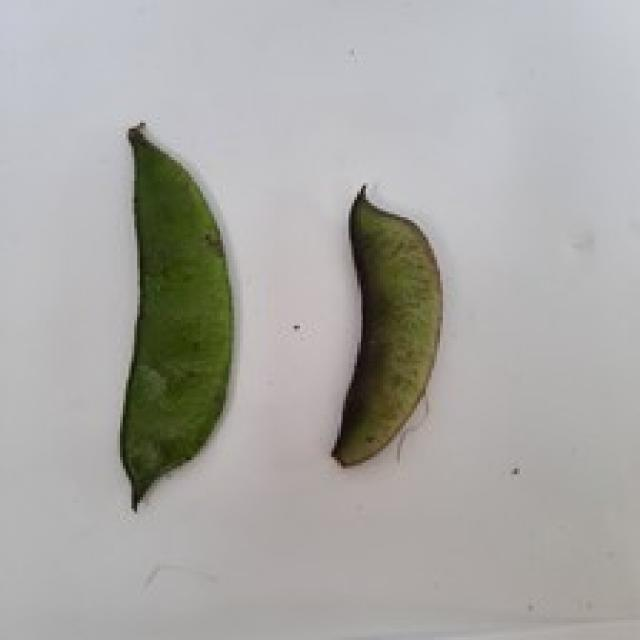Bean: (117, 120, 234, 511), (328, 180, 443, 466)
